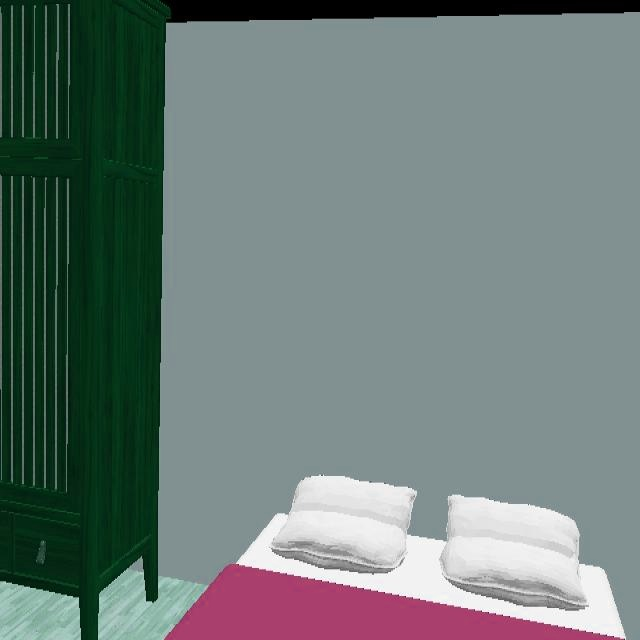bed: (163, 513, 627, 640)
pillow: (439, 495, 589, 612), (272, 476, 418, 575)
